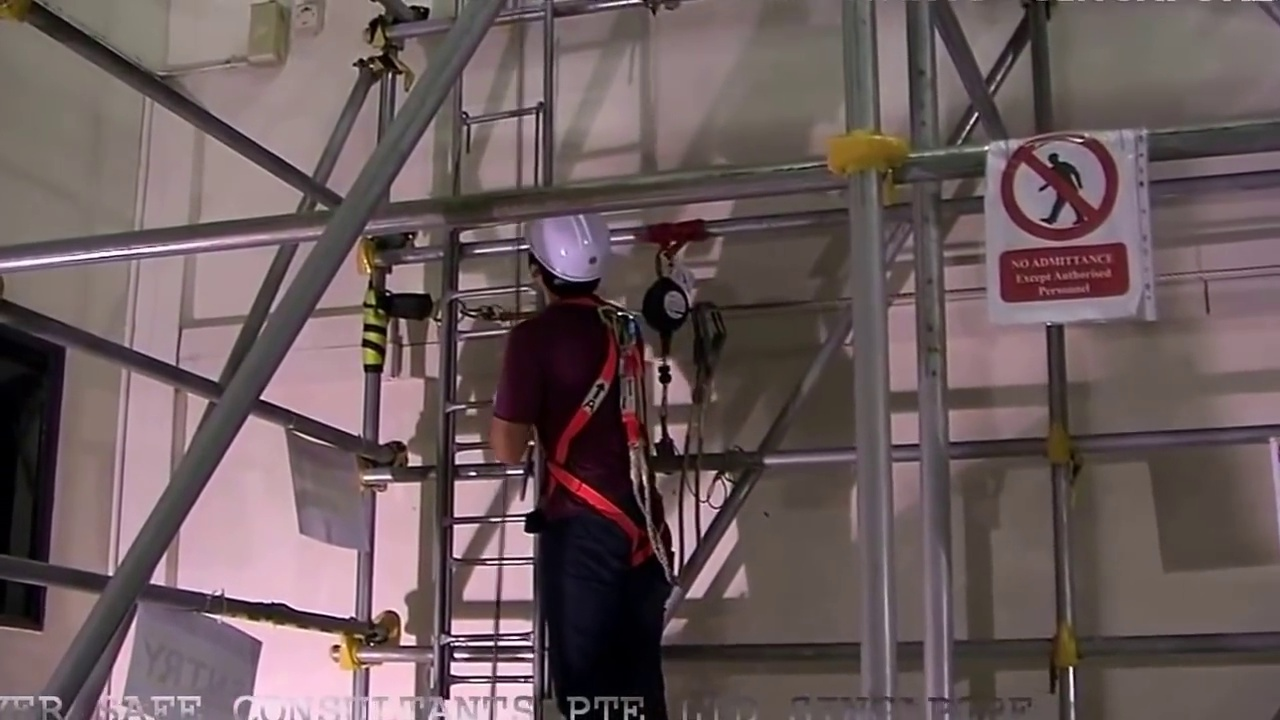harness: (539, 326, 658, 556)
helmet: (527, 218, 604, 278)
hook: (686, 299, 731, 364)
leash: (671, 393, 709, 575)
